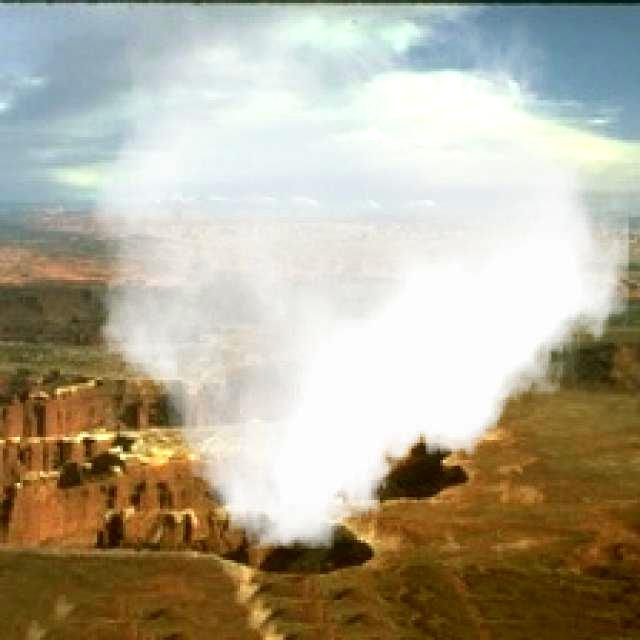no_helmet: (92, 9, 629, 549)
